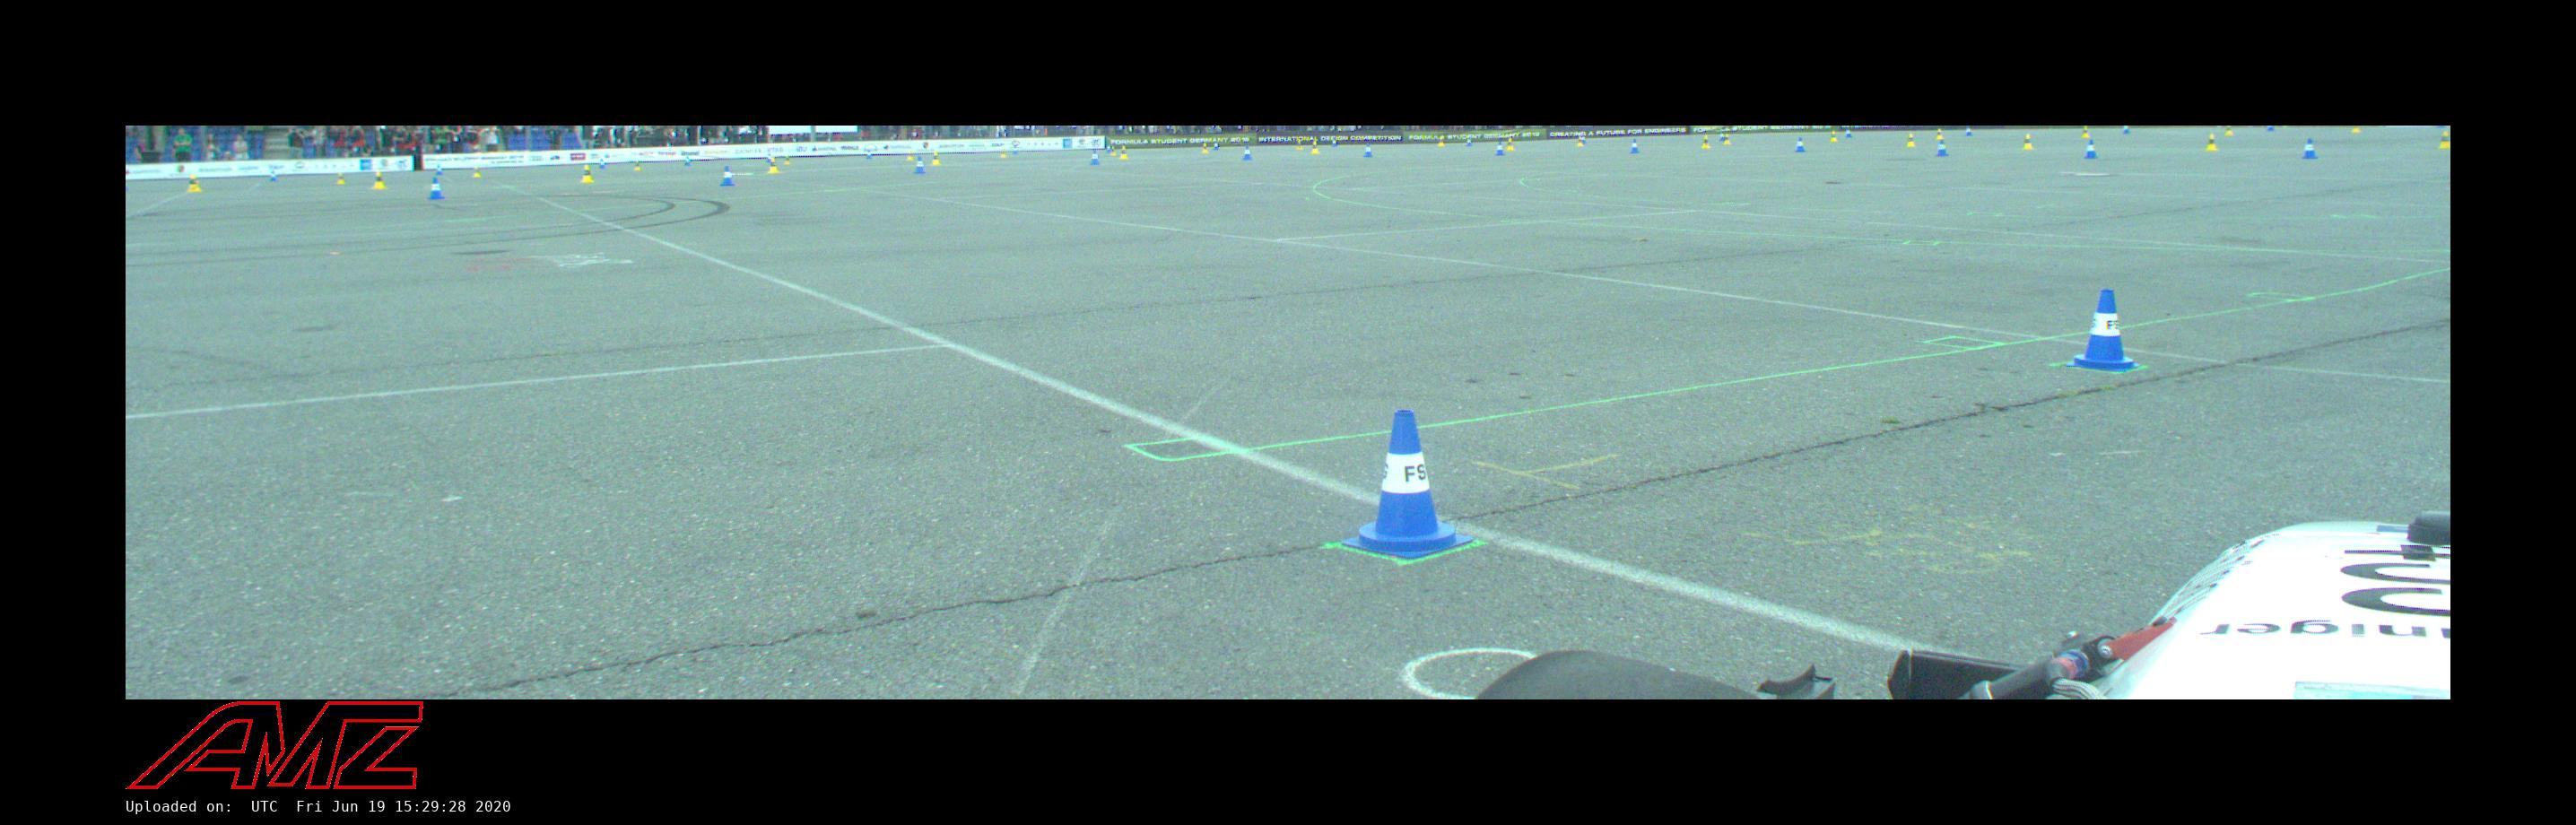blue_cone: (1342, 408, 1474, 555), (2067, 289, 2141, 371), (2302, 138, 2318, 159), (427, 179, 444, 199), (720, 166, 734, 186), (2085, 140, 2098, 159), (1935, 140, 1948, 156), (913, 156, 925, 173), (1794, 136, 1805, 153), (1244, 145, 1254, 161), (1628, 140, 1640, 153), (1091, 150, 1101, 164), (1495, 141, 1505, 156), (434, 164, 444, 174), (1364, 145, 1372, 156), (269, 169, 276, 182), (1965, 125, 1973, 135), (1718, 131, 1727, 141), (1012, 143, 1019, 154), (1580, 133, 1587, 143), (866, 150, 872, 159), (767, 153, 774, 163), (600, 159, 606, 169), (2123, 125, 2129, 133), (2266, 125, 2274, 131), (1331, 138, 1337, 146), (1106, 145, 1112, 153), (1467, 136, 1472, 146), (685, 156, 690, 166), (1847, 128, 1851, 136), (1214, 141, 1219, 150)
yellow_cone: (371, 173, 386, 189), (580, 164, 593, 182), (2205, 133, 2218, 151), (187, 174, 200, 191), (2438, 131, 2449, 150), (2022, 135, 2034, 150), (767, 159, 779, 173), (1700, 135, 1710, 150), (1906, 133, 1916, 146), (1311, 141, 1321, 154), (2081, 125, 2091, 136), (1828, 130, 1838, 141), (932, 153, 941, 164), (335, 173, 345, 184), (1506, 138, 1515, 151), (1119, 145, 1127, 158), (2223, 125, 2233, 135), (471, 164, 480, 176), (784, 154, 792, 164), (1723, 135, 1732, 145), (2349, 125, 2359, 133), (1001, 146, 1007, 158), (1935, 128, 1942, 140), (1296, 140, 1303, 151), (907, 150, 913, 161), (1203, 143, 1209, 153), (1111, 146, 1117, 156), (1577, 136, 1584, 146), (1438, 136, 1444, 145), (634, 161, 639, 169)
